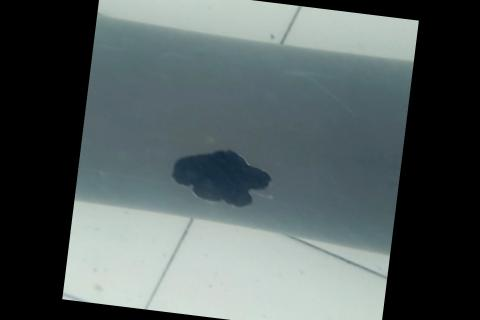kebocoran: (164, 139, 277, 211)
